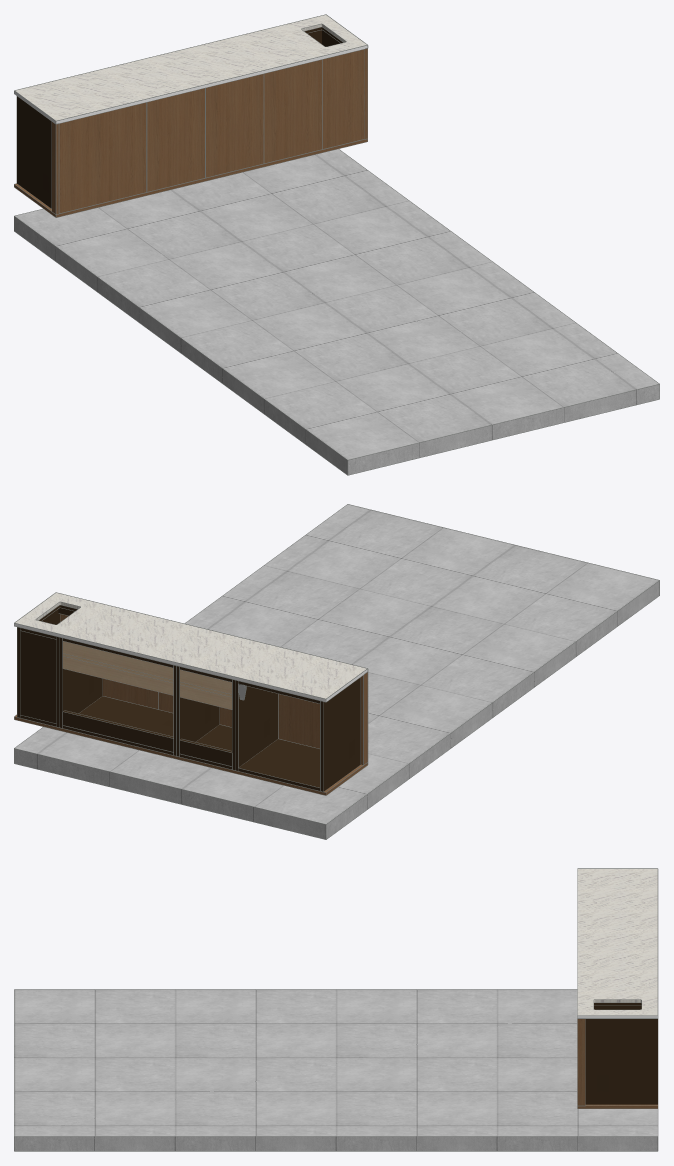
The model's file is modell.glb.
3 renders of one model, top to bottom at view 1: azimuth 30°, elevation 25°; view 2: azimuth 150°, elevation 25°; view 3: azimuth 270°, elevation 25°, orthographic. The views are drawn at different scales.
Bounding box in the file's own units: 2162 × 933 × 4014.
Materials: 12 (7 with a texture image).
